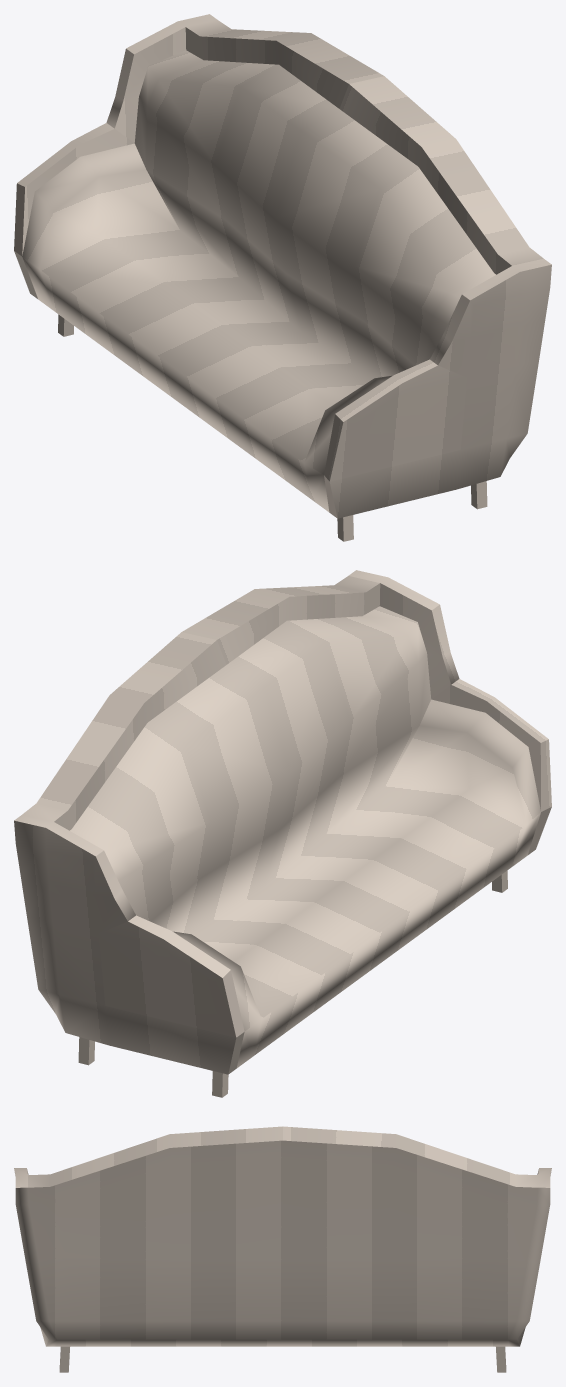
Rendered from Props_Sofa.fbx.
3 views of the same model, one above another, from view 1: azimuth 30°, elevation 25°; view 2: azimuth 150°, elevation 25°; view 3: azimuth 270°, elevation 25° (orthographic). The views are drawn at different scales.
Parts seen in each view (by area): view 1: Sofa_and_chair_pCube19; view 2: Sofa_and_chair_pCube19; view 3: Sofa_and_chair_pCube19.
Part boxes in pixels (<box>): Sofa_and_chair_pCube19: <box>14,14,551,541</box>; Sofa_and_chair_pCube19: <box>14,570,551,1097</box>; Sofa_and_chair_pCube19: <box>14,1126,551,1372</box>.
Bounding box in the file's own units: 0.8583 × 1.22 × 2.41.
